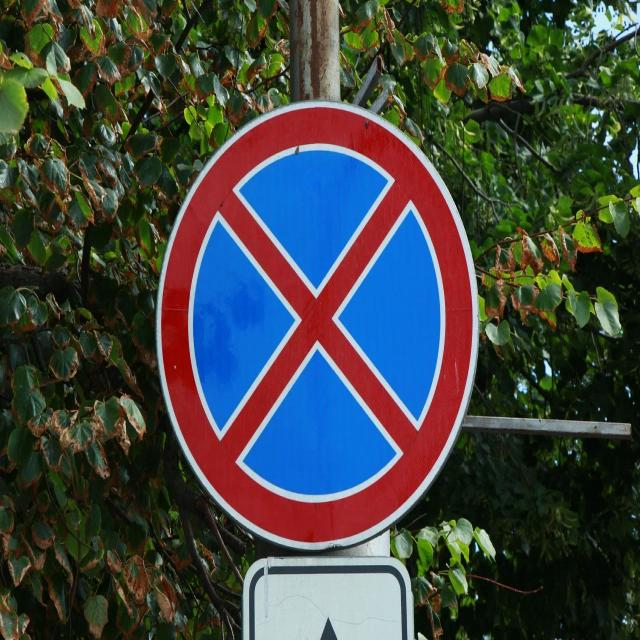no stopping: (151, 90, 488, 552)
